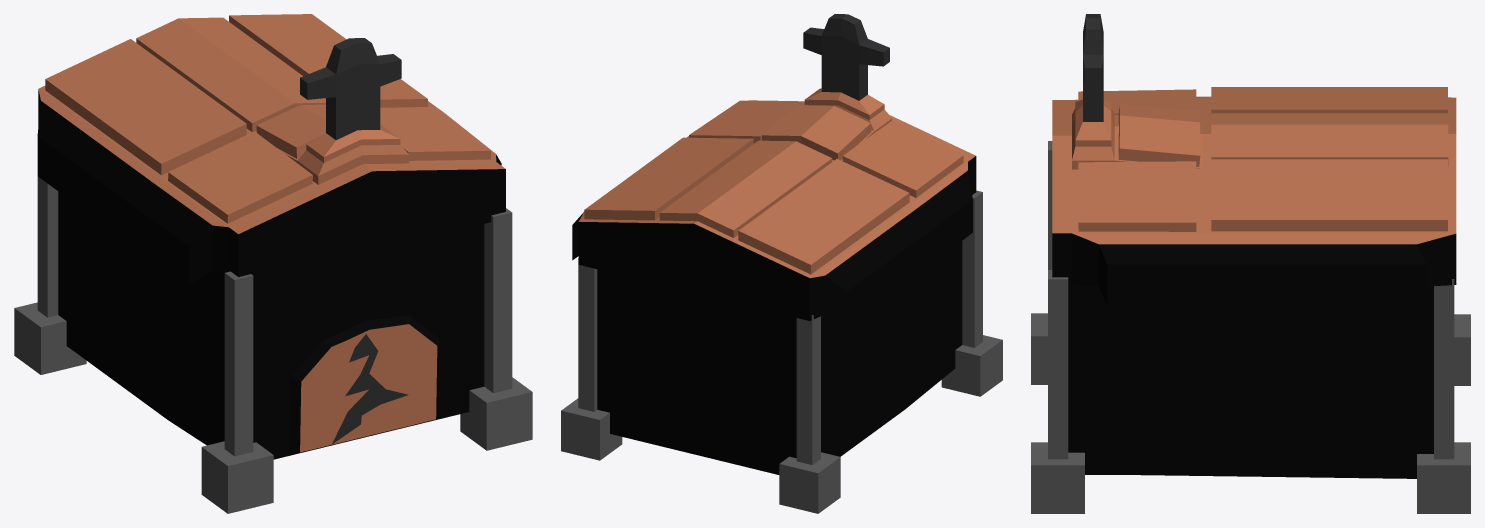
3 views of the same model, side by side, from view 1: azimuth 30°, elevation 25°; view 2: azimuth 150°, elevation 25°; view 3: azimuth 270°, elevation 25° (orthographic). The views are drawn at different scales.
Visible parts, largest first — view 1: Cube.001; view 2: Cube.001; view 3: Cube.001.
Part boxes in pixels (<box>): Cube.001: <box>14,14,532,513</box>; Cube.001: <box>561,14,1002,513</box>; Cube.001: <box>1031,14,1470,513</box>.
Bounding box in the file's own units: 518 × 646 × 610.
